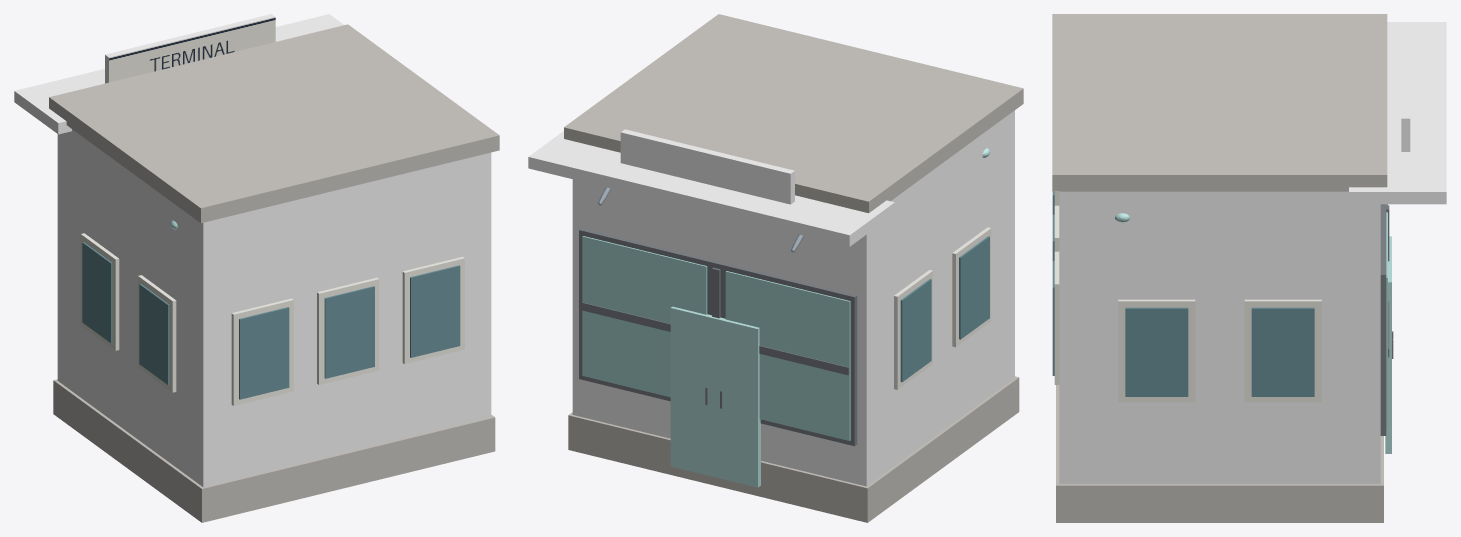
File: terminal.glb
3 renders of one model, left to right at view 1: azimuth 30°, elevation 25°; view 2: azimuth 150°, elevation 25°; view 3: azimuth 270°, elevation 25°, orthographic. The views are drawn at different scales.
Visible parts, largest first — view 1: Terminal; view 2: Terminal; view 3: Terminal.
Part boxes in pixels (left/top/right/bottom): Terminal: left=14, top=14, right=499, bottom=522; Terminal: left=528, top=14, right=1023, bottom=522; Terminal: left=1052, top=14, right=1446, bottom=522.
Size of the model in its own units: 3.5 by 3.56 by 3.44.
11 materials, 1 textured.
